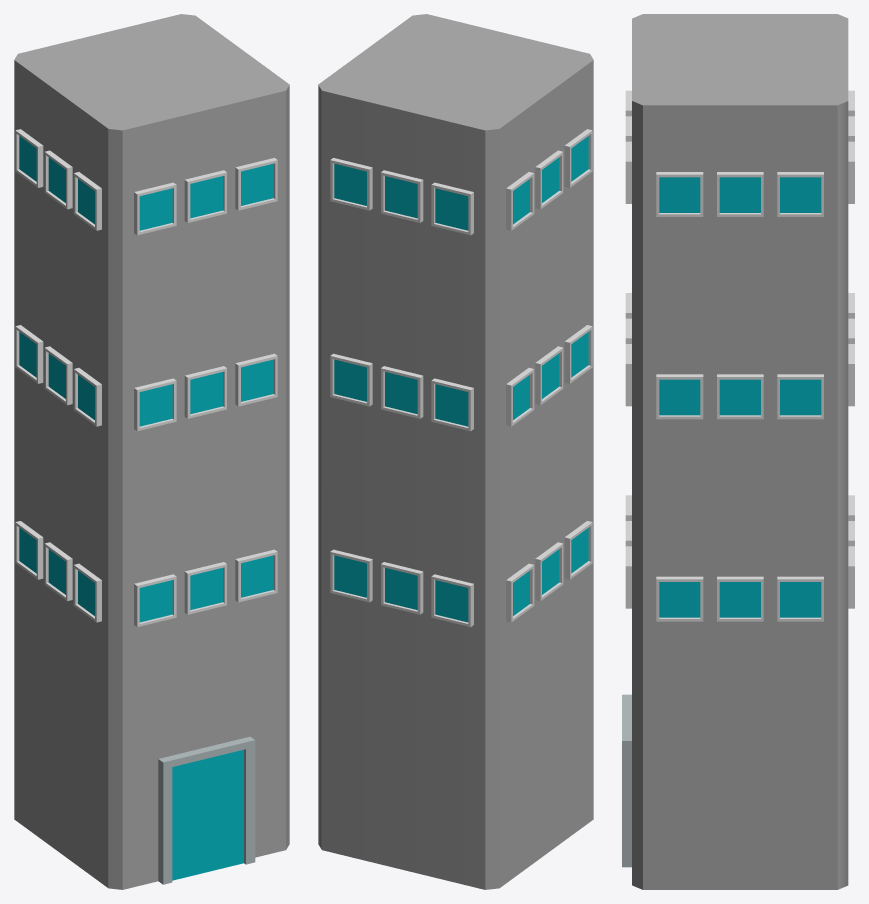
Rendered from Bill.fbx.
3 renders of one model, left to right at view 1: azimuth 30°, elevation 25°; view 2: azimuth 150°, elevation 25°; view 3: azimuth 270°, elevation 25°, orthographic. The views are drawn at different scales.
Visible parts, largest first — view 1: bill; view 2: bill; view 3: bill.
Part boxes in pixels (x1=…): bill: x1=14, y1=14, x2=289, y2=889; bill: x1=318, y1=14, x2=593, y2=889; bill: x1=622, y1=14, x2=854, y2=889.
Size of the model in its own units: 529 by 2000 by 538.
